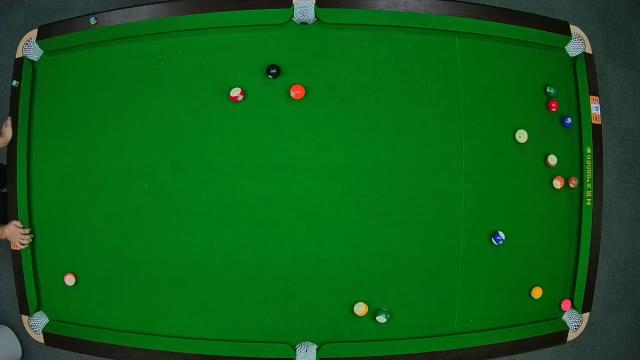bag1: (24, 40, 40, 62)
bag2: (292, 2, 316, 22)
bag3: (566, 34, 584, 56)
bag4: (27, 310, 49, 336)
bag5: (295, 342, 319, 360)
bag6: (562, 308, 584, 332)
ball0: (514, 129, 530, 145)
ball1: (532, 284, 544, 300)
ball10: (492, 229, 506, 246)
ball11: (228, 88, 246, 102)
ball12: (64, 272, 78, 288)
ball13: (550, 176, 566, 188), (560, 298, 572, 310)
ball14: (373, 308, 391, 324)
ball15: (542, 152, 560, 166)
ball2: (560, 115, 576, 131)
ball3: (546, 100, 560, 114)
ball5: (288, 84, 306, 100)
ball6: (544, 85, 560, 99)
ball7: (564, 173, 580, 189)
ball8: (266, 64, 282, 80)
ball9: (352, 301, 370, 317)
